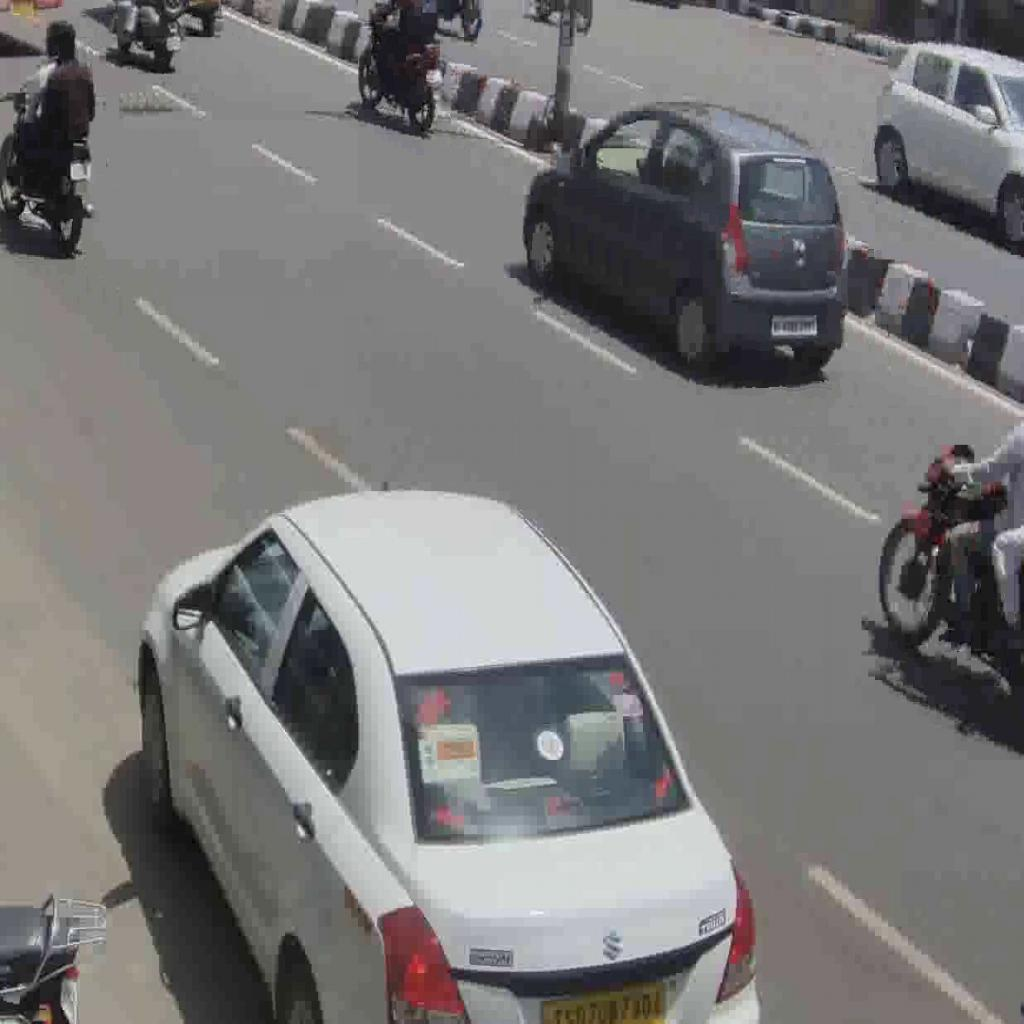helmet: (877, 438, 1024, 692), (0, 86, 95, 255), (358, 2, 444, 132)
